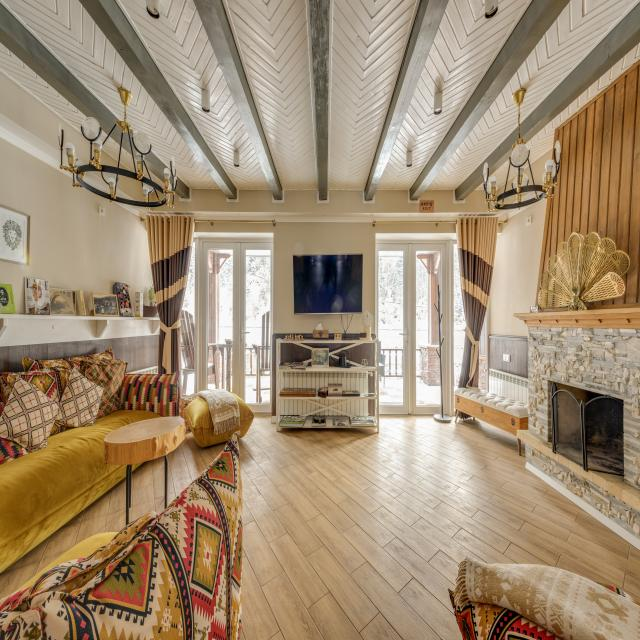floor: (238, 413, 640, 640), (167, 434, 219, 504), (130, 458, 164, 520), (117, 481, 124, 503)
wall: (194, 222, 456, 334), (0, 137, 153, 316), (0, 72, 91, 165), (490, 198, 547, 337), (153, 188, 420, 213), (0, 127, 73, 179), (419, 190, 489, 213), (499, 198, 544, 221), (530, 148, 553, 185), (116, 174, 144, 202), (113, 201, 146, 219), (84, 177, 110, 194), (346, 314, 364, 334), (98, 149, 118, 167), (522, 166, 533, 185), (505, 175, 517, 192), (503, 194, 517, 204), (496, 184, 506, 197), (155, 189, 165, 201), (341, 314, 348, 331), (347, 314, 353, 329), (119, 163, 130, 171), (520, 192, 531, 198), (153, 190, 158, 202), (168, 194, 173, 205), (92, 142, 95, 159), (497, 224, 502, 233), (341, 316, 344, 330), (149, 192, 153, 202), (497, 199, 503, 204), (93, 159, 96, 163), (344, 331, 345, 334), (345, 331, 346, 333)
